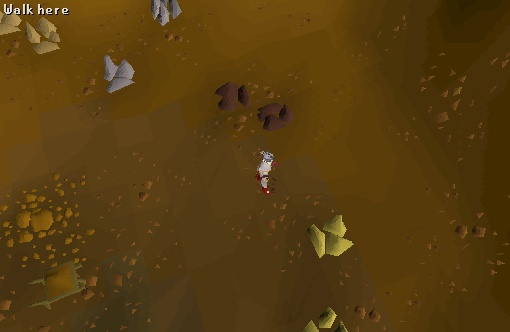gold: (295, 209, 371, 267)
iron: (253, 96, 299, 138), (213, 75, 259, 117)
tin: (92, 50, 150, 102)
